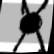not correct: (10, 0, 54, 53)
